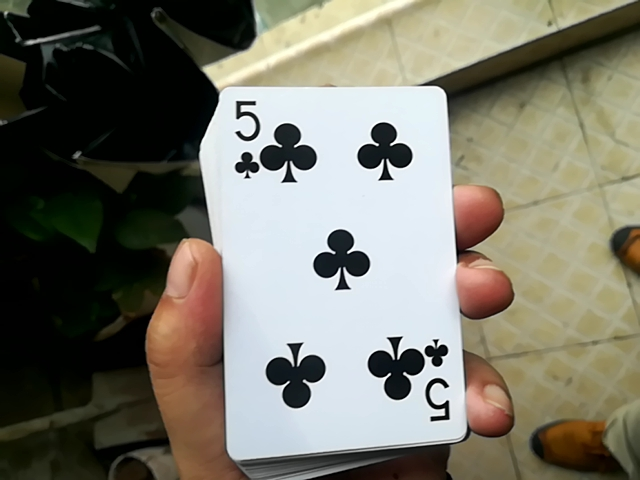mh 5: (195, 83, 465, 454)
